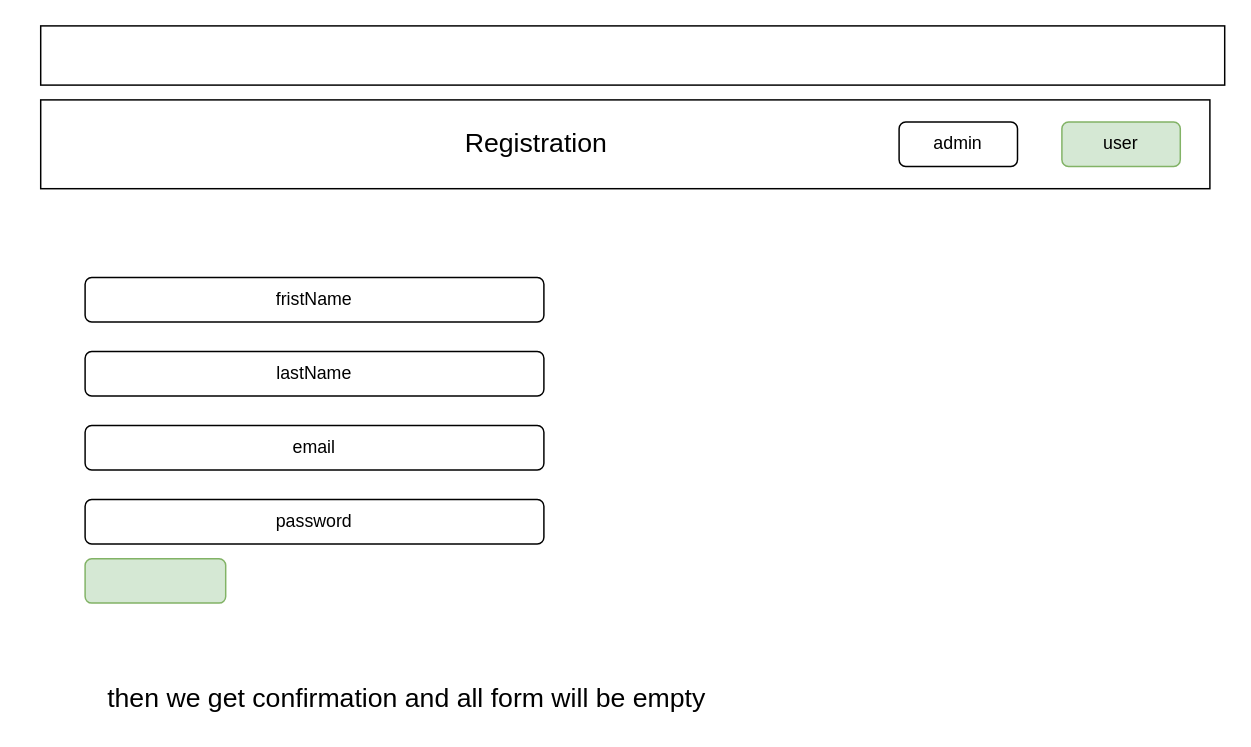
Some shapes in this 1251 by 747 pixel diagram are drawn without their labels. The centre of each missing label's shape, as x and y in pixels:
"http://localhost:5000/user/register" belongs at [632,54].
"register" belongs at [155,580].
